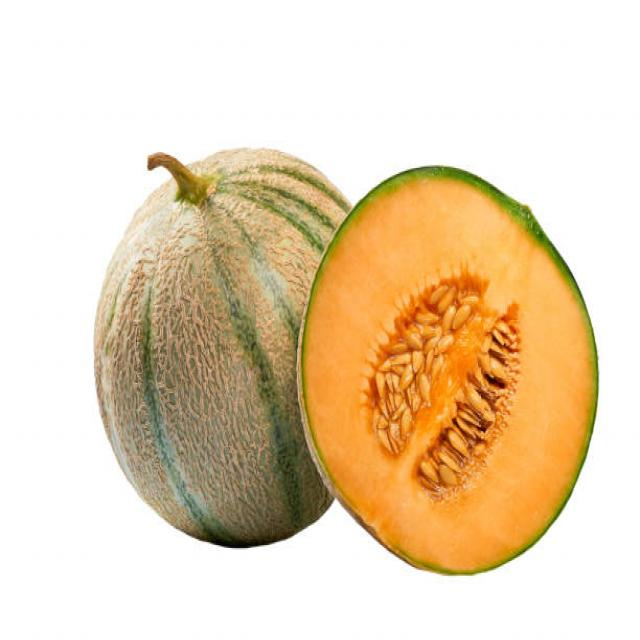melon: (329, 162, 605, 585), (88, 137, 311, 552)
